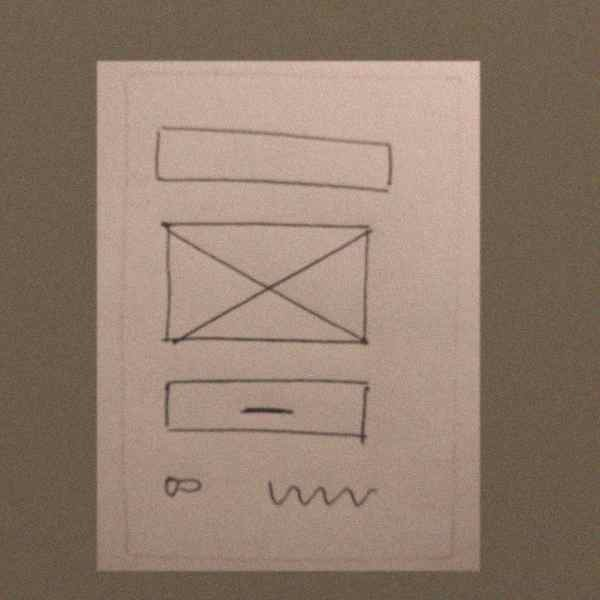button: (159, 371, 375, 451)
image: (153, 215, 375, 356)
switch: (152, 466, 212, 507)
text: (252, 474, 384, 517)
text_input: (149, 119, 398, 201)
